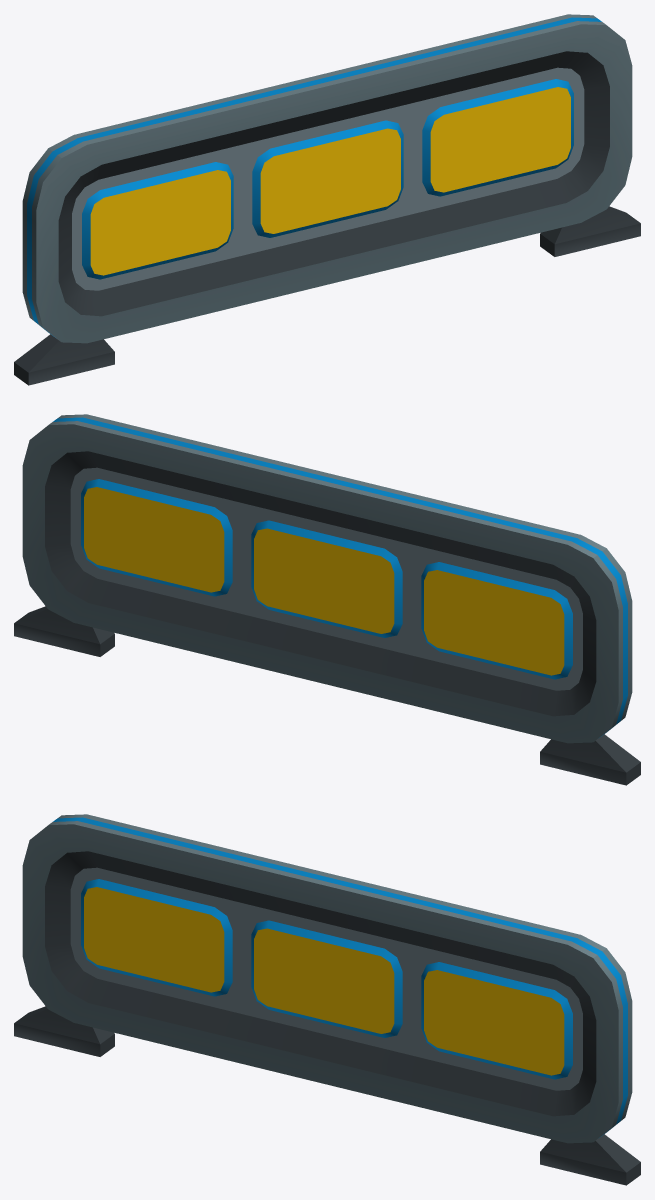
File: Fence_type_C_012.fbx
3 renders of one model, top to bottom at view 1: azimuth 30°, elevation 25°; view 2: azimuth 150°, elevation 25°; view 3: azimuth 330°, elevation 25°, orthographic.
Visible parts, largest first — view 1: Fence_type_C_012; view 2: Fence_type_C_012; view 3: Fence_type_C_012.
Boxes of the visible parts, bbox=[...] form: Fence_type_C_012: bbox=[14, 14, 640, 385]; Fence_type_C_012: bbox=[14, 414, 640, 785]; Fence_type_C_012: bbox=[14, 814, 640, 1185].
Size of the model in its own units: 401 by 16.53 by 141.
